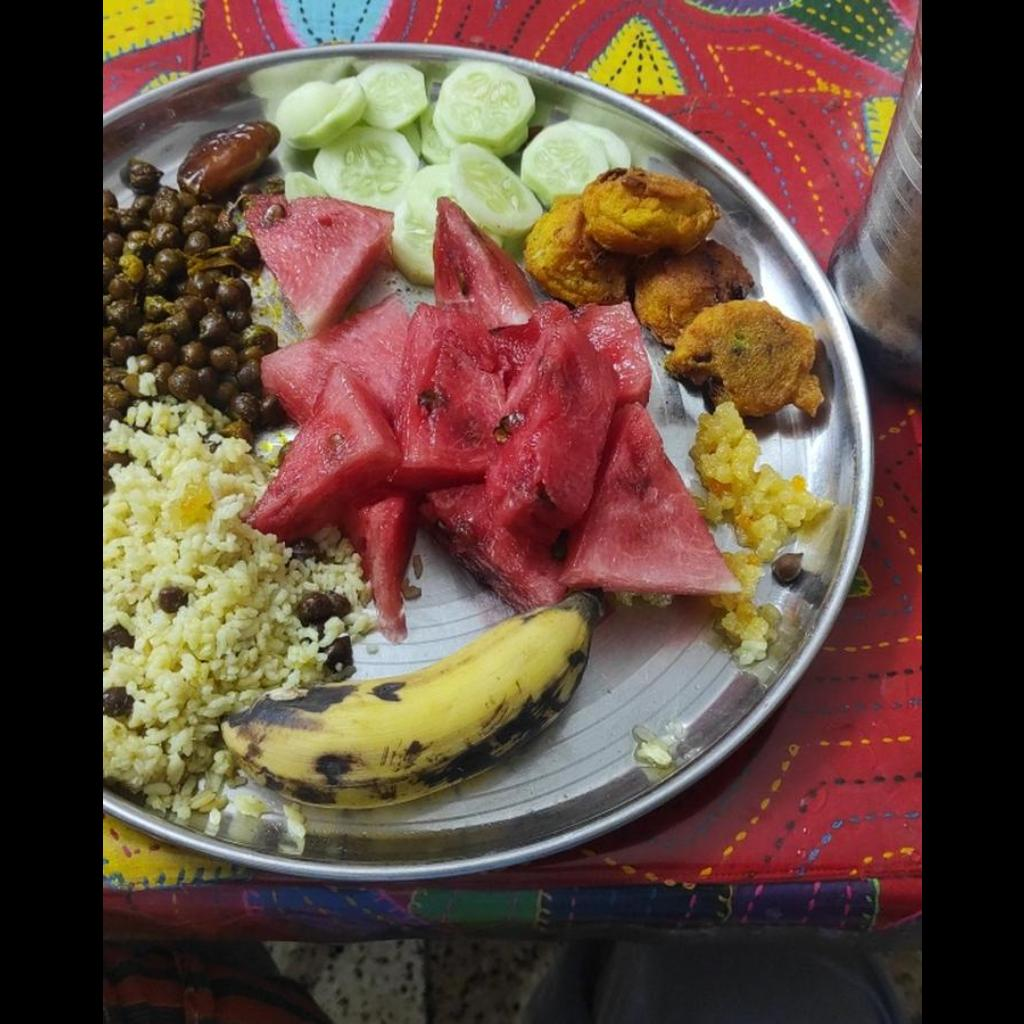banana: (235, 595, 595, 812)
burinda: (689, 400, 831, 667)
chola: (102, 159, 261, 410)
chop-alu: (531, 168, 829, 410)
cucumber: (279, 70, 618, 271)
dates: (178, 122, 274, 196)
rice: (102, 399, 371, 814)
watermelon: (246, 197, 761, 617)
